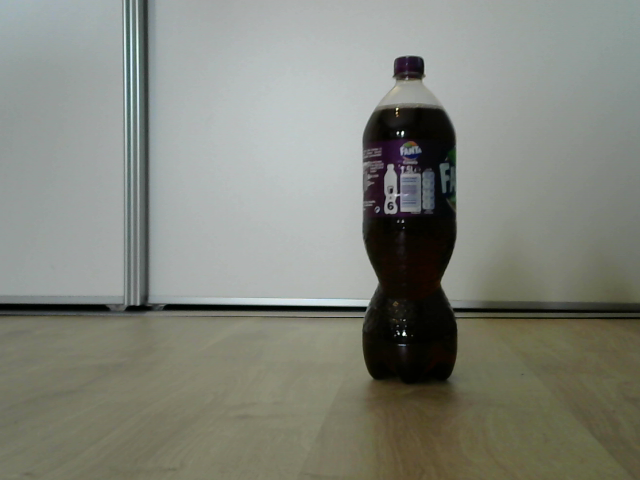bottle: (361, 54, 458, 383)
